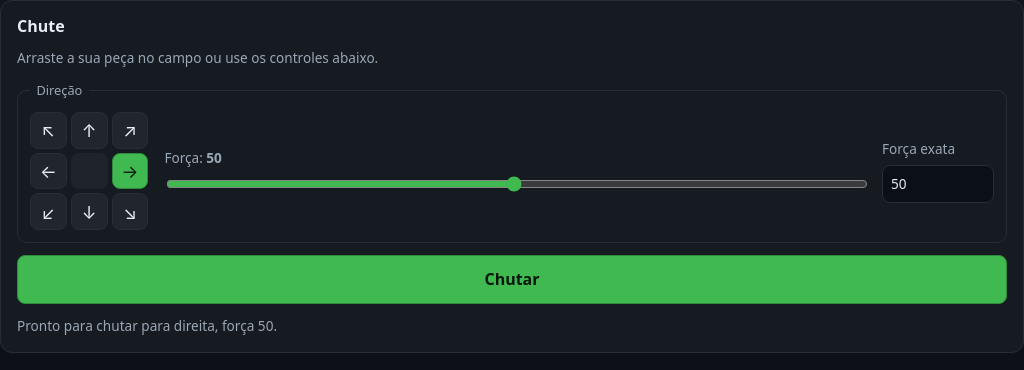
Test: ControleJogada › normaliza o texto ao sair do campo
Replace the text in the number field labelled "Força exata" with "500": [938, 184] box [882, 165, 994, 203]
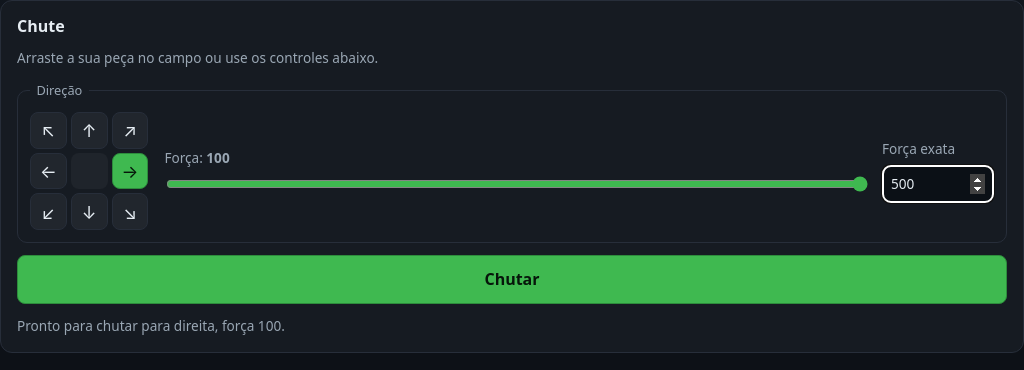
Press Tab
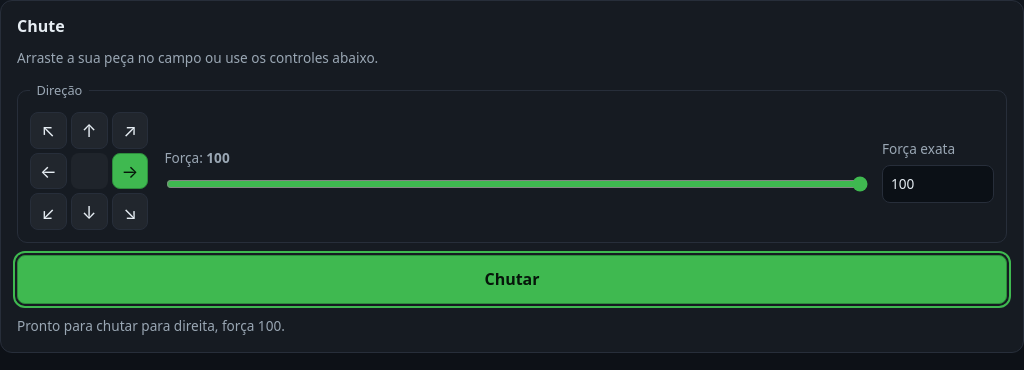
Check: the number field labelled "Força exata" holds "100", box [882, 165, 994, 203]
